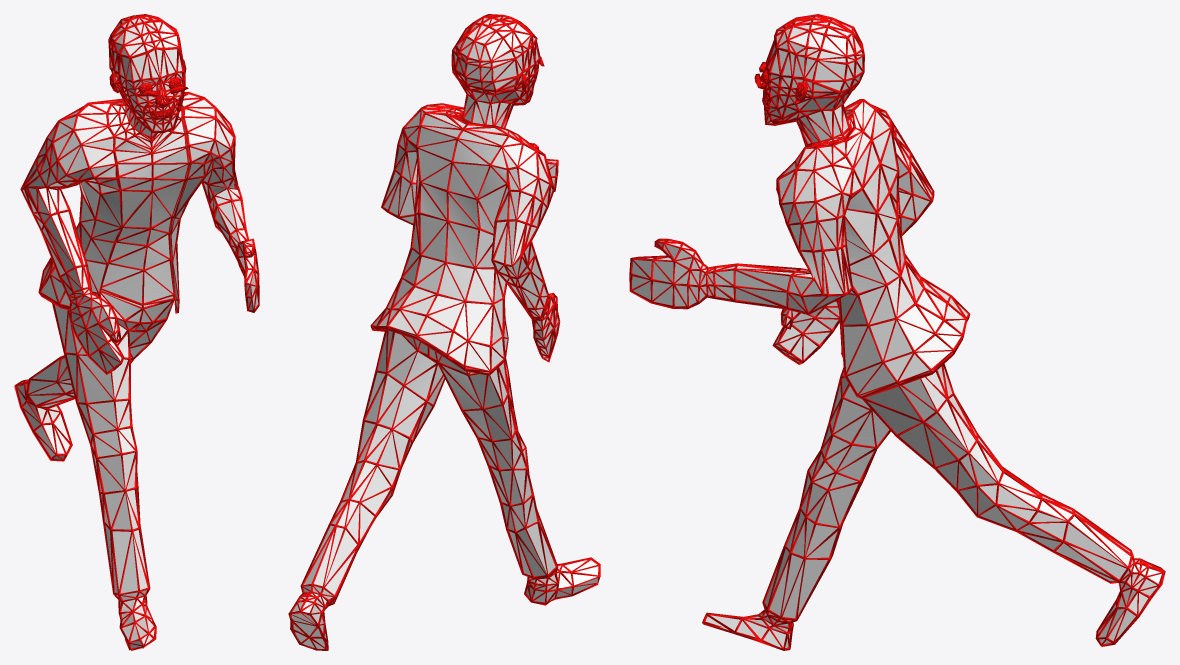
File: elegantRun_000007.obj
3 views of the same model, side by side, from view 1: azimuth 30°, elevation 25°; view 2: azimuth 150°, elevation 25°; view 3: azimuth 270°, elevation 25° (orthographic). The views are drawn at different scales.
Parts seen in each view (by area): view 1: BaseHuman_Cylinder.002; view 2: BaseHuman_Cylinder.002; view 3: BaseHuman_Cylinder.002.
Boxes of the visible parts, <box> form: BaseHuman_Cylinder.002: <box>14,14,259,650</box>; BaseHuman_Cylinder.002: <box>288,14,600,650</box>; BaseHuman_Cylinder.002: <box>629,14,1165,650</box>.
Size of the model in its own units: 1.47 by 4.71 by 3.54.
